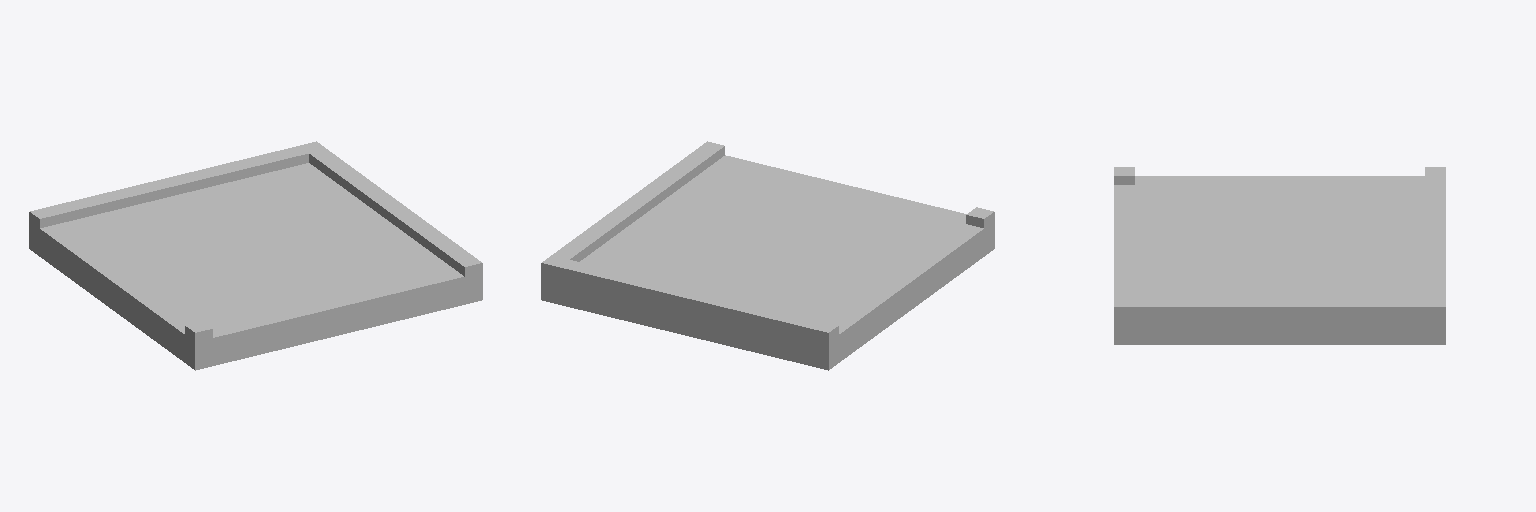
The model's file is road-corner.obj.
3 renders of one model, left to right at view 1: azimuth 30°, elevation 25°; view 2: azimuth 150°, elevation 25°; view 3: azimuth 270°, elevation 25°, orthographic.
Bounding box in the file's own units: 32 × 4 × 32.